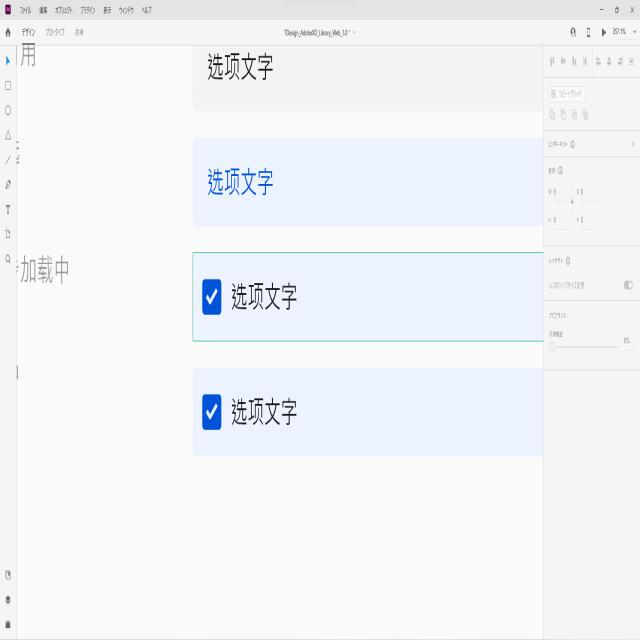checkbox: (203, 394, 221, 431), (202, 280, 221, 313)
